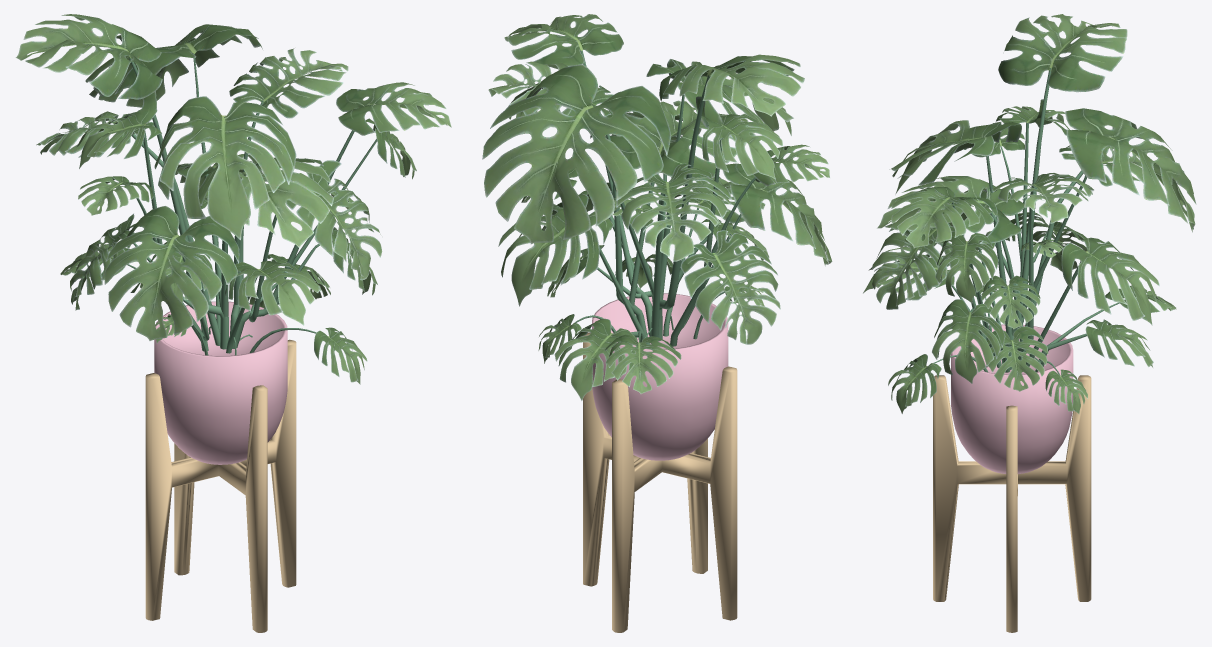
The model's file is plant_monstera.glb.
3 views of the same model, side by side, from view 1: azimuth 30°, elevation 25°; view 2: azimuth 150°, elevation 25°; view 3: azimuth 270°, elevation 25° (orthographic). The views are drawn at different scales.
Parts seen in each view (by area): view 1: plant_monstera_tex_monstera, plant_monstera_solid_#E3C9A0, plant_monstera_solid_#F0C4D4, plant_monstera_solid_#6F9A7B; view 2: plant_monstera_tex_monstera, plant_monstera_solid_#E3C9A0, plant_monstera_solid_#F0C4D4, plant_monstera_solid_#6F9A7B; view 3: plant_monstera_tex_monstera, plant_monstera_solid_#E3C9A0, plant_monstera_solid_#F0C4D4, plant_monstera_solid_#6F9A7B.
Part boxes in pixels (x1=…): plant_monstera_tex_monstera: x1=15, y1=14, x2=451, y2=384; plant_monstera_solid_#E3C9A0: x1=145, y1=339, x2=296, y2=632; plant_monstera_solid_#F0C4D4: x1=154, y1=301, x2=287, y2=464; plant_monstera_solid_#6F9A7B: x1=127, y1=53, x2=376, y2=355; plant_monstera_tex_monstera: x1=482, y1=14, x2=832, y2=400; plant_monstera_solid_#E3C9A0: x1=583, y1=332, x2=737, y2=632; plant_monstera_solid_#F0C4D4: x1=592, y1=293, x2=728, y2=460; plant_monstera_solid_#6F9A7B: x1=559, y1=50, x2=756, y2=346; plant_monstera_tex_monstera: x1=863, y1=14, x2=1196, y2=414; plant_monstera_solid_#E3C9A0: x1=933, y1=375, x2=1091, y2=632; plant_monstera_solid_#F0C4D4: x1=951, y1=324, x2=1073, y2=473; plant_monstera_solid_#6F9A7B: x1=933, y1=68, x2=1124, y2=375.
Size of the model in its own units: 0.8695 by 1.36 by 0.7911.
2 materials, 1 textured.
